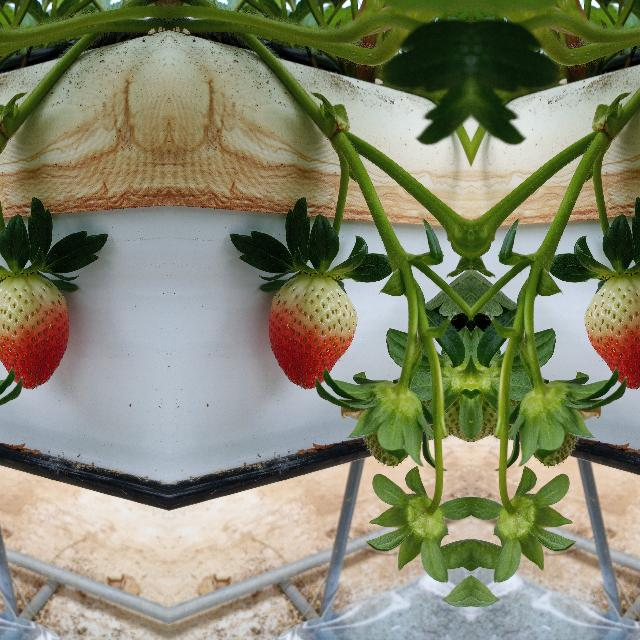Health_75: (266, 274, 358, 390), (0, 274, 69, 390), (583, 274, 640, 390)
